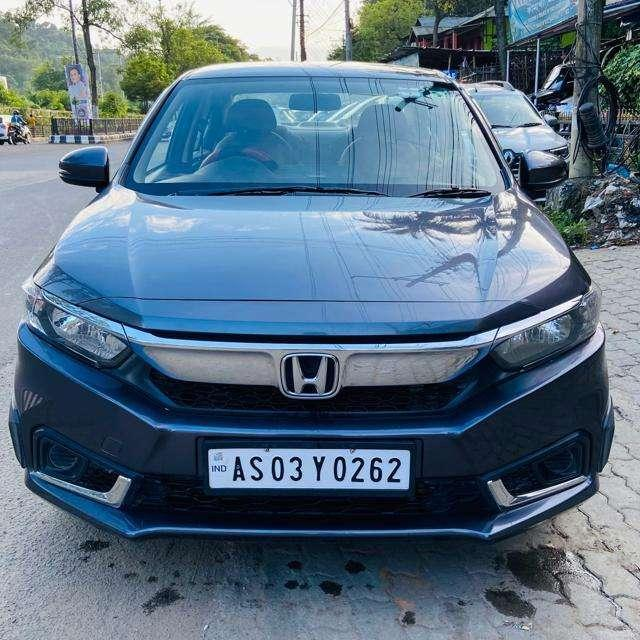Indian_Number_Plate: (205, 443, 415, 494)
